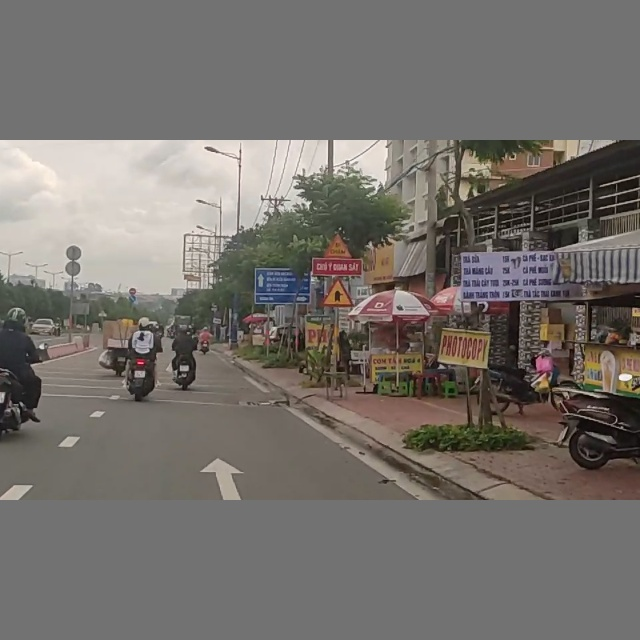W.207: (323, 280, 354, 307)
W.245a: (323, 233, 353, 258)
